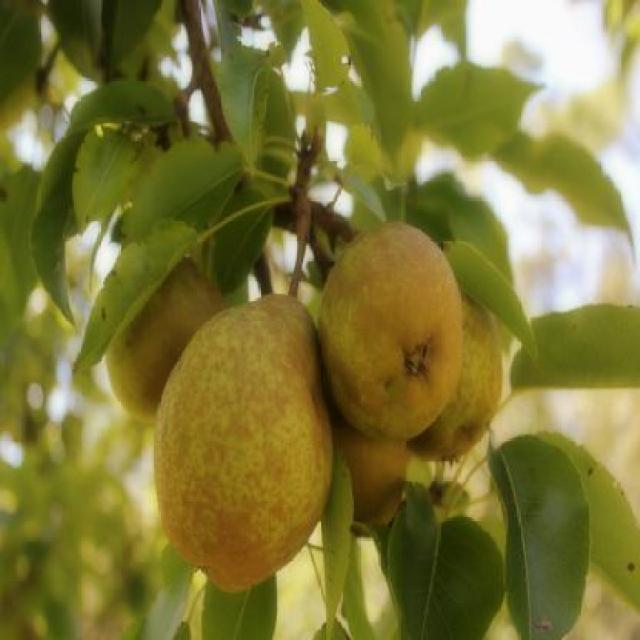Pear: (150, 289, 332, 594), (316, 217, 462, 446), (101, 252, 232, 426), (406, 284, 504, 466), (323, 406, 408, 536)
